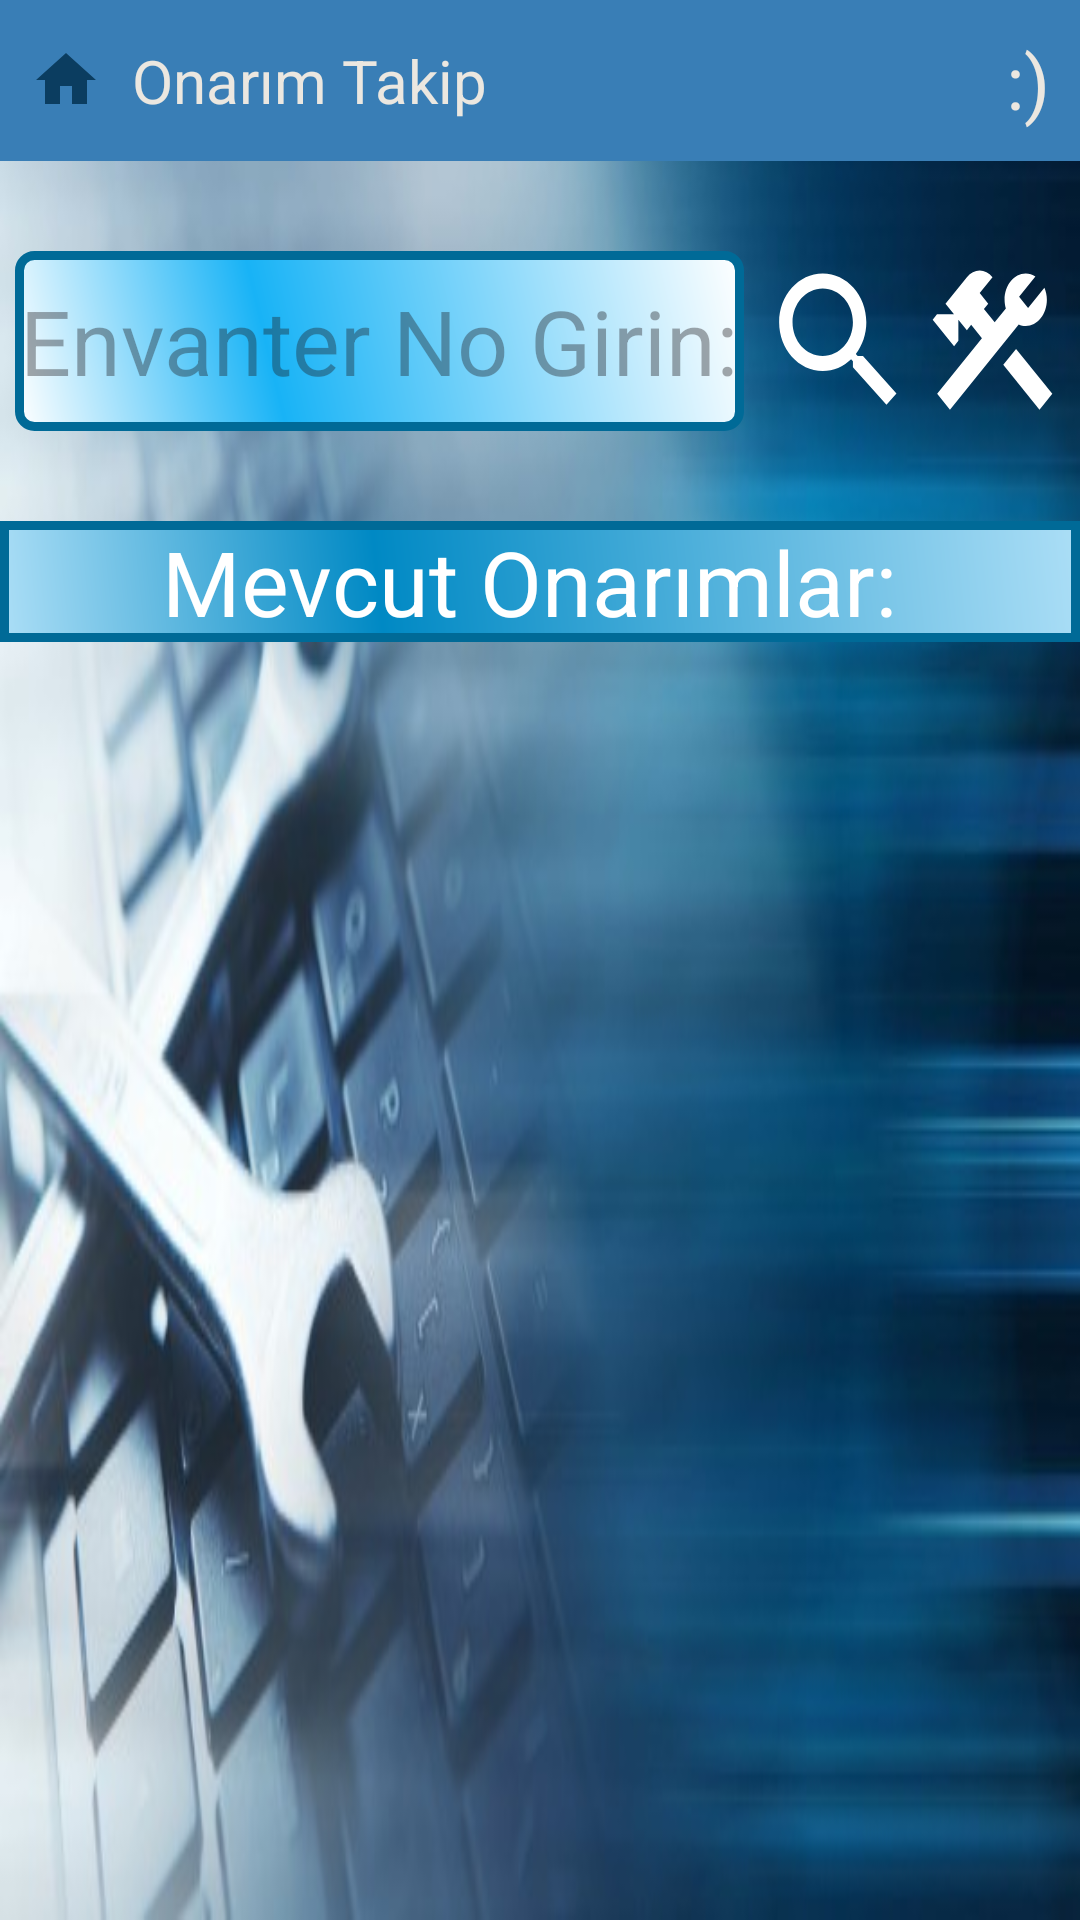

Named icons in this screenshot (1080x1920) and their centers, (x=x, y=y):
home: (x=66, y=78)
search: (x=839, y=341)
tamir: (x=992, y=341)
